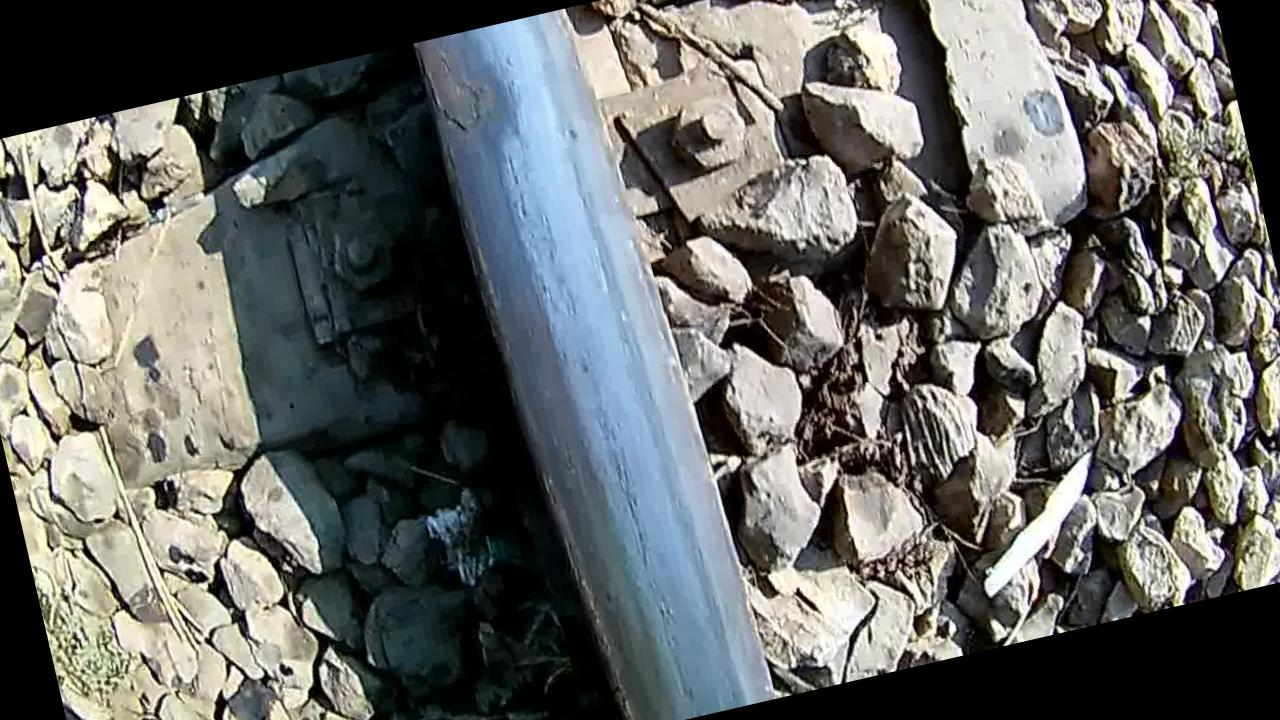bolt_missing: (400, 27, 536, 145)
